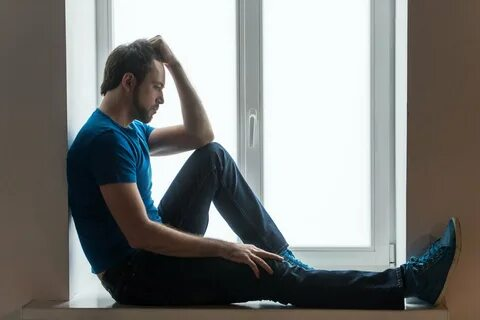awake: (65, 34, 463, 310)
